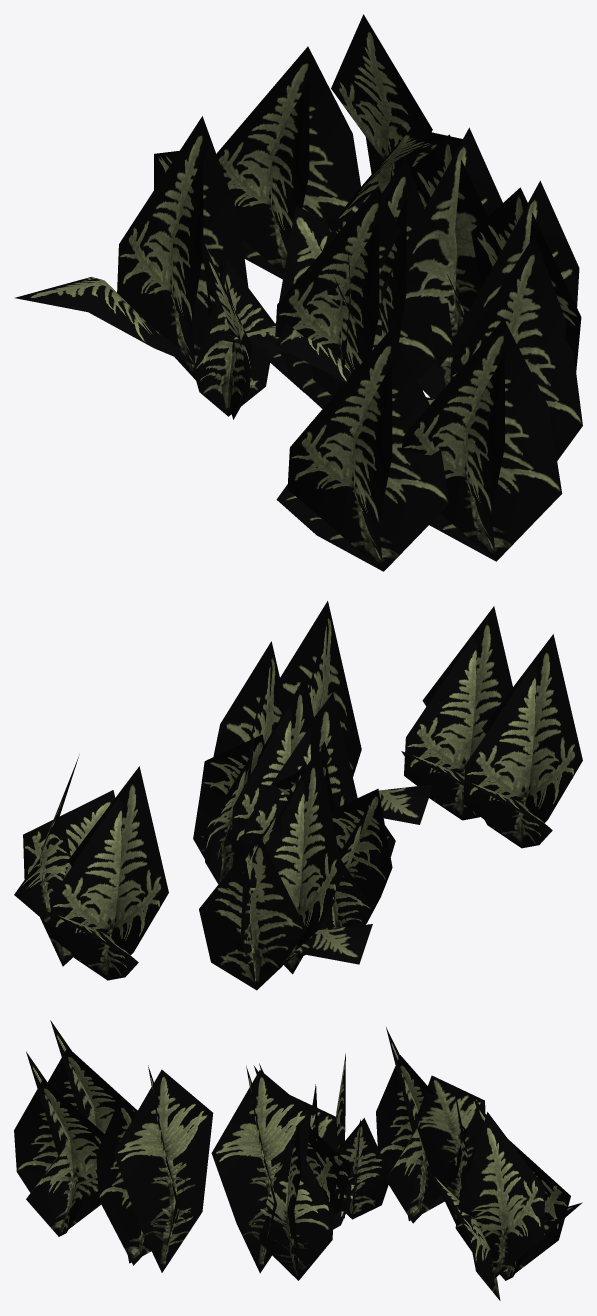
File: RF3_Moss_Cushion.fbx
The picture shows the model from 3 angles, top to bottom: view 1: azimuth 30°, elevation 25°; view 2: azimuth 150°, elevation 25°; view 3: azimuth 270°, elevation 25°; orthographic projection. The views are drawn at different scales.
Visible parts, largest first — view 1: RF3_Moss_Cushion; view 2: RF3_Moss_Cushion; view 3: RF3_Moss_Cushion.
Boxes of the visible parts, box(x1,y1,x2,y2) form: RF3_Moss_Cushion: box(15, 14, 582, 571); RF3_Moss_Cushion: box(14, 601, 582, 990); RF3_Moss_Cushion: box(14, 1020, 582, 1300).
Bounding box in the file's own units: 92.42 × 60.1 × 148.
